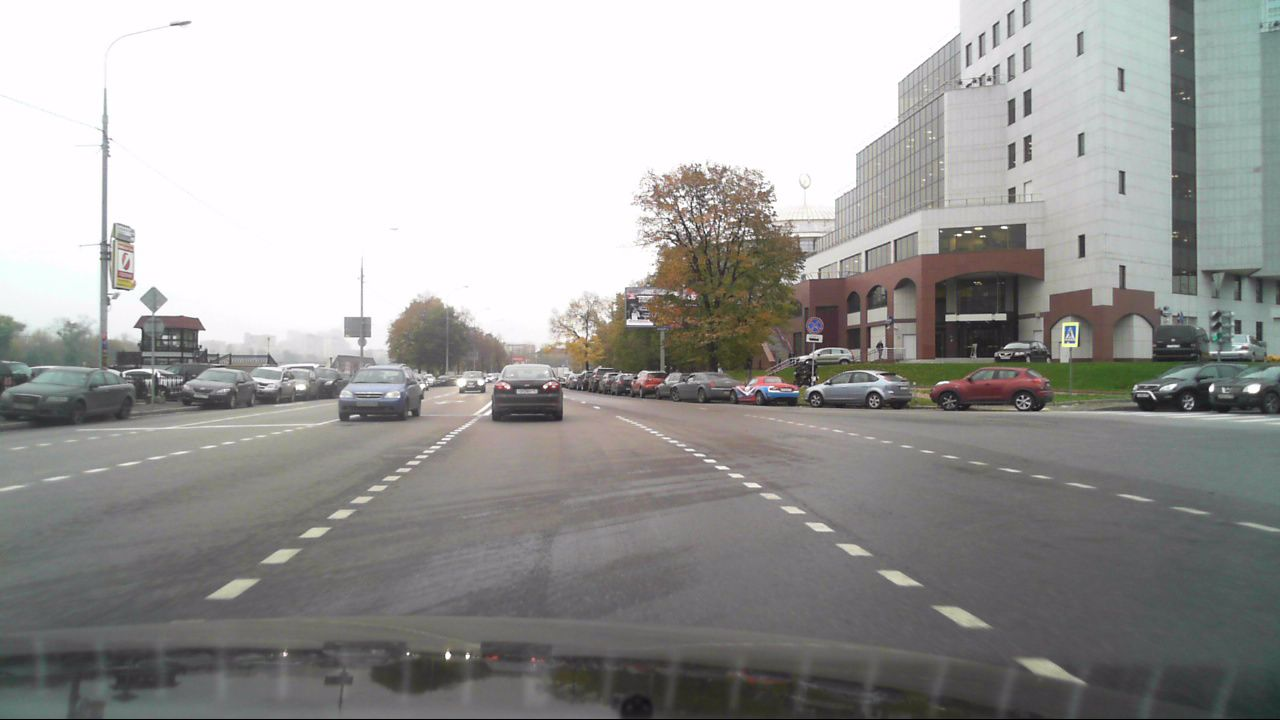No Parking: (804, 315, 824, 333)
